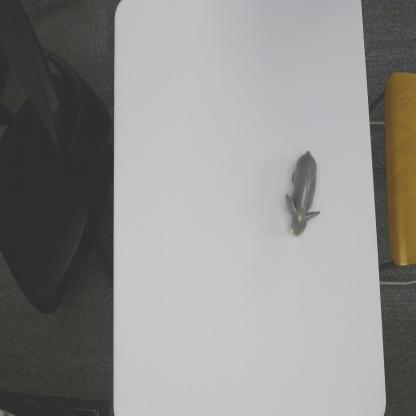Elephant: (285, 150, 320, 238)
